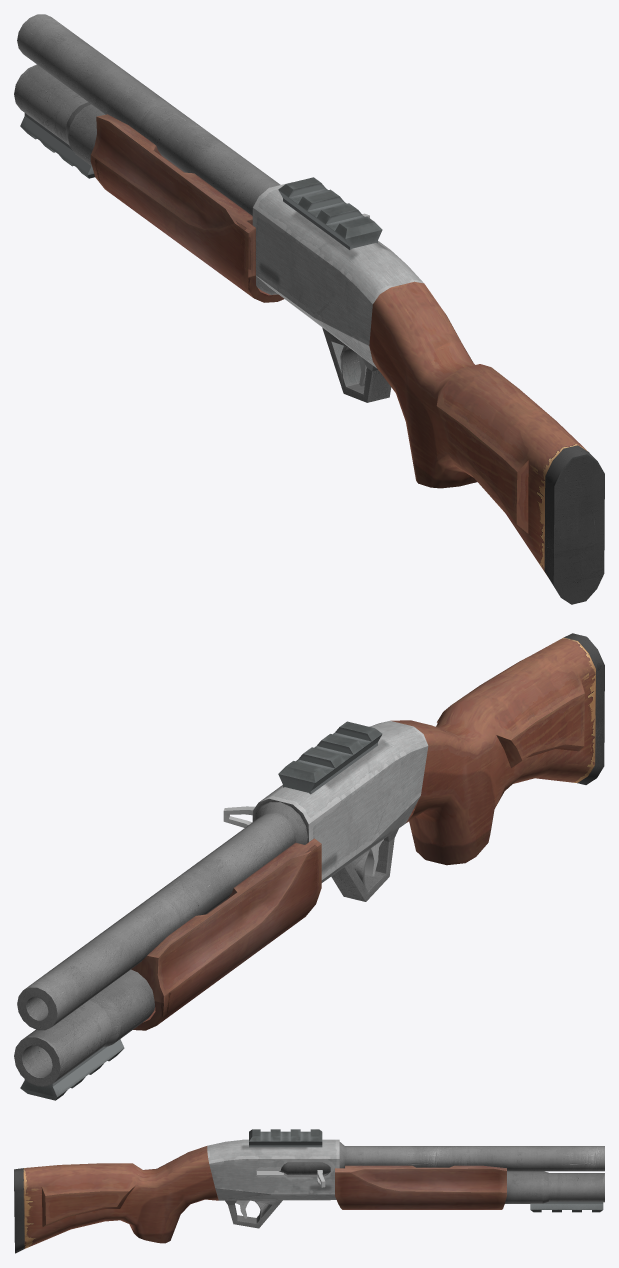
File: IG_Gun_MP155.fbx
3 views of the same model, one above another, from view 1: azimuth 30°, elevation 25°; view 2: azimuth 150°, elevation 25°; view 3: azimuth 270°, elevation 25° (orthographic). The views are drawn at different scales.
Visible parts, largest first — view 1: Pfb_WPN_MP155, ShowIf_Scope, ShowIf_Tec; view 2: Pfb_WPN_MP155, ShowIf_Scope, ShowIf_Tec; view 3: Pfb_WPN_MP155, ShowIf_Scope, ShowIf_Tec.
Boxes of the visible parts, <box> form: Pfb_WPN_MP155: <box>14,14,604,604</box>; ShowIf_Scope: <box>278,177,382,249</box>; ShowIf_Tec: <box>20,113,94,178</box>; Pfb_WPN_MP155: <box>14,633,604,1086</box>; ShowIf_Scope: <box>278,721,382,794</box>; ShowIf_Tec: <box>20,1039,124,1100</box>; Pfb_WPN_MP155: <box>14,1139,604,1253</box>; ShowIf_Scope: <box>249,1129,322,1147</box>; ShowIf_Tec: <box>530,1201,603,1212</box>.
Size of the model in its own units: 0.1577 by 0.2991 by 1.35.
